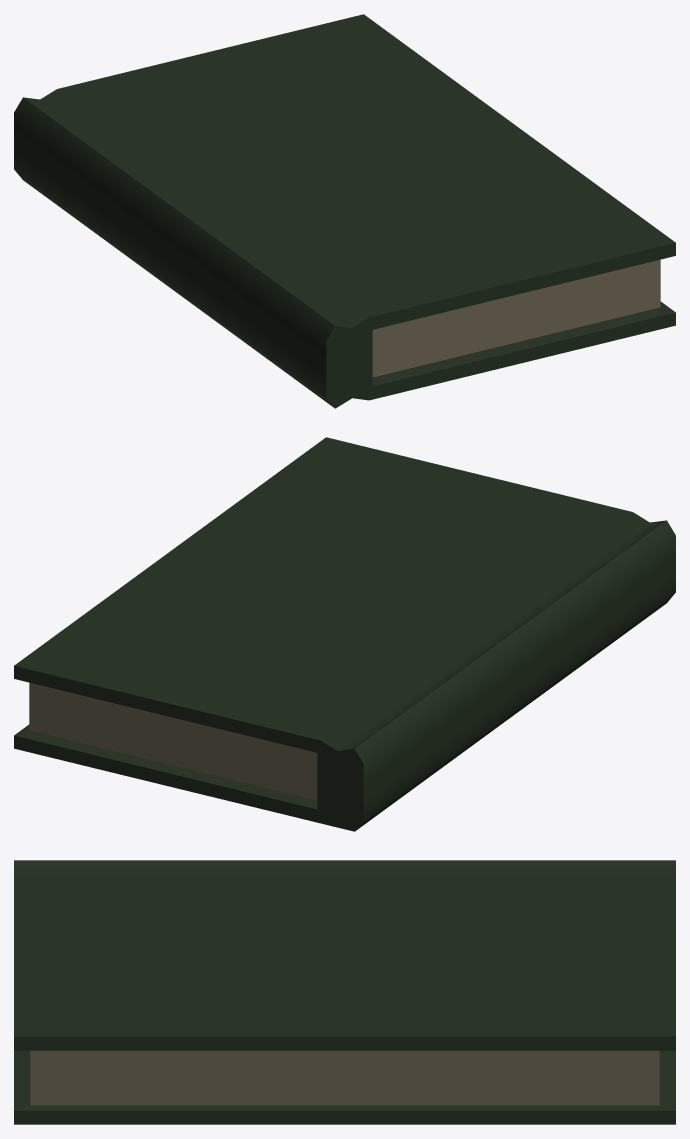
The model's file is boooks.obj.
3 renders of one model, top to bottom at view 1: azimuth 30°, elevation 25°; view 2: azimuth 150°, elevation 25°; view 3: azimuth 270°, elevation 25°, orthographic. The views are drawn at different scales.
Visible parts, largest first — view 1: pCube1; view 2: pCube1; view 3: pCube1.
Boxes of the visible parts, <box> form: pCube1: <box>14,14,675,408</box>; pCube1: <box>14,437,675,831</box>; pCube1: <box>14,860,675,1124</box>.
Bounding box in the file's own units: 20.8 × 4.71 × 32.15.
